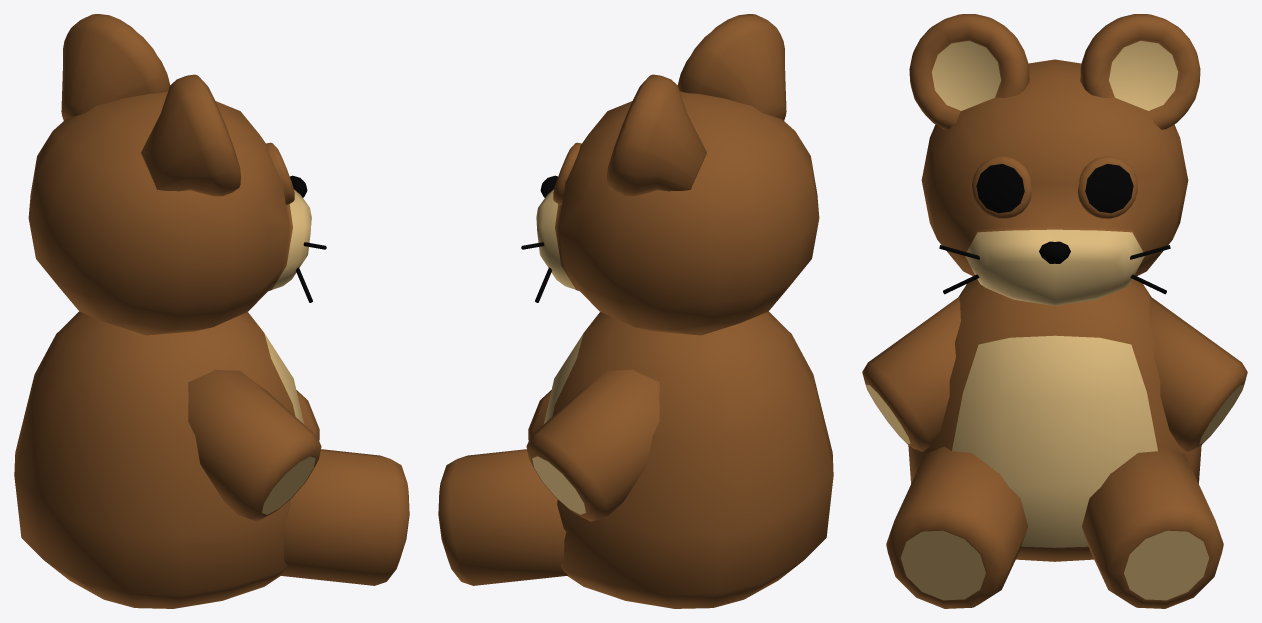
Rendered from Plushy.fbx.
3 views of the same model, side by side, from view 1: azimuth 30°, elevation 25°; view 2: azimuth 150°, elevation 25°; view 3: azimuth 270°, elevation 25° (orthographic). The views are drawn at different scales.
Visible parts, largest first — view 1: Plushy; view 2: Plushy; view 3: Plushy.
Boxes of the visible parts, x1,y1,x2,y2 form: Plushy: (14, 14, 409, 608); Plushy: (438, 14, 833, 608); Plushy: (862, 14, 1247, 608).
Bounding box in the file's own units: 51.27 × 82.38 × 55.88.
